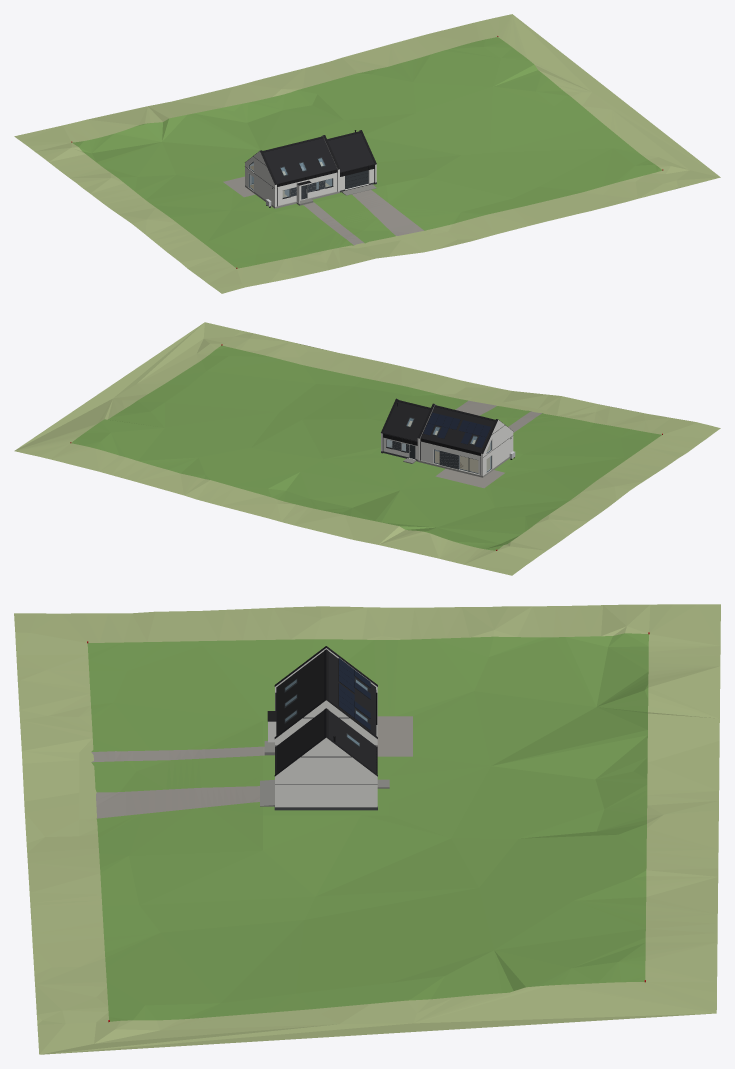
File: dom_garaz_teren_antracyt.glb
The picture shows the model from 3 angles, top to bottom: view 1: azimuth 30°, elevation 25°; view 2: azimuth 150°, elevation 25°; view 3: azimuth 270°, elevation 25°; orthographic projection. The views are drawn at different scales.
Visible parts, largest first — view 1: Teren – działka, Teren – otoczenie, Teren – utwardzenia, Dom – Dach – połać frontowa, Garaż – Dach – połać frontowa, Dom – Ściana szczytowa lewa, Dom – Ściana frontowa; view 2: Teren – działka, Teren – otoczenie, Teren – utwardzenia, Dom – Dach – połać ogrodowa, Garaż – Dach – połać ogrodowa, Dom – Instalacja fotowoltaiczna, Dom – Ściana szczytowa lewa, Dom – Ściana ogrodowa; view 3: Teren – działka, Teren – otoczenie, Teren – utwardzenia, Garaż – Ściana szczytowa prawa, Dom – Dach – połać frontowa, Garaż – Dach – połać frontowa, Garaż – Dach – połać ogrodowa, Dom – Instalacja fotowoltaiczna, Dom – Dach – połać ogrodowa, Dom – Ściana szczytowa prawa.
Boxes of the visible parts, box(x1,y1,x2,y2) form: Teren – działka: box(72, 37, 662, 268); Teren – otoczenie: box(14, 14, 720, 293); Teren – utwardzenia: box(223, 176, 424, 245); Dom – Dach – połać frontowa: box(263, 138, 337, 183); Garaż – Dach – połać frontowa: box(328, 133, 374, 172); Dom – Ściana szczytowa lewa: box(245, 151, 276, 206); Dom – Ściana frontowa: box(277, 172, 337, 205); Teren – działka: box(71, 345, 661, 550); Teren – otoczenie: box(14, 322, 720, 575); Teren – utwardzenia: box(435, 400, 541, 488); Dom – Dach – połać ogrodowa: box(420, 407, 494, 452); Garaż – Dach – połać ogrodowa: box(383, 401, 429, 441); Dom – Instalacja fotowoltaiczna: box(423, 412, 490, 447); Dom – Ściana szczytowa lewa: box(481, 420, 513, 475); Dom – Ściana ogrodowa: box(420, 441, 480, 474); Teren – działka: box(87, 633, 648, 1021); Teren – otoczenie: box(14, 604, 720, 1054); Teren – utwardzenia: box(91, 716, 412, 818); Garaż – Ściana szczytowa prawa: box(275, 737, 377, 807); Dom – Dach – połać frontowa: box(276, 651, 323, 735); Garaż – Dach – połać frontowa: box(276, 710, 323, 772); Garaż – Dach – połać ogrodowa: box(328, 710, 375, 772); Dom – Instalacja fotowoltaiczna: box(338, 658, 370, 730); Dom – Dach – połać ogrodowa: box(328, 651, 375, 735); Dom – Ściana szczytowa prawa: box(275, 700, 377, 746).
Size of the model in its own units: 83.06 by 9.05 by 59.08.
